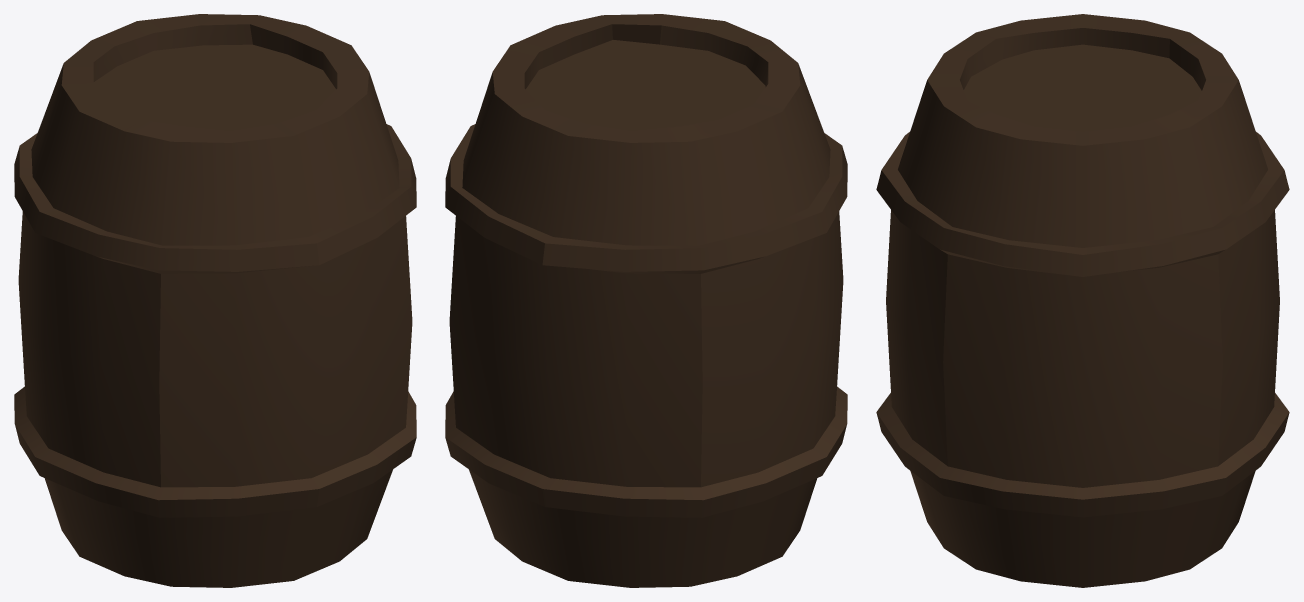
Rendered from Beczka.fbx.
3 renders of one model, left to right at view 1: azimuth 30°, elevation 25°; view 2: azimuth 150°, elevation 25°; view 3: azimuth 270°, elevation 25°, orthographic.
Parts seen in each view (by area): view 1: Beczka; view 2: Beczka; view 3: Beczka.
Boxes of the visible parts, x1,y1,x2,y2 form: Beczka: (14,14,416,587); Beczka: (445,14,847,587); Beczka: (876,14,1289,587).
Size of the model in its own units: 458 by 548 by 458.
